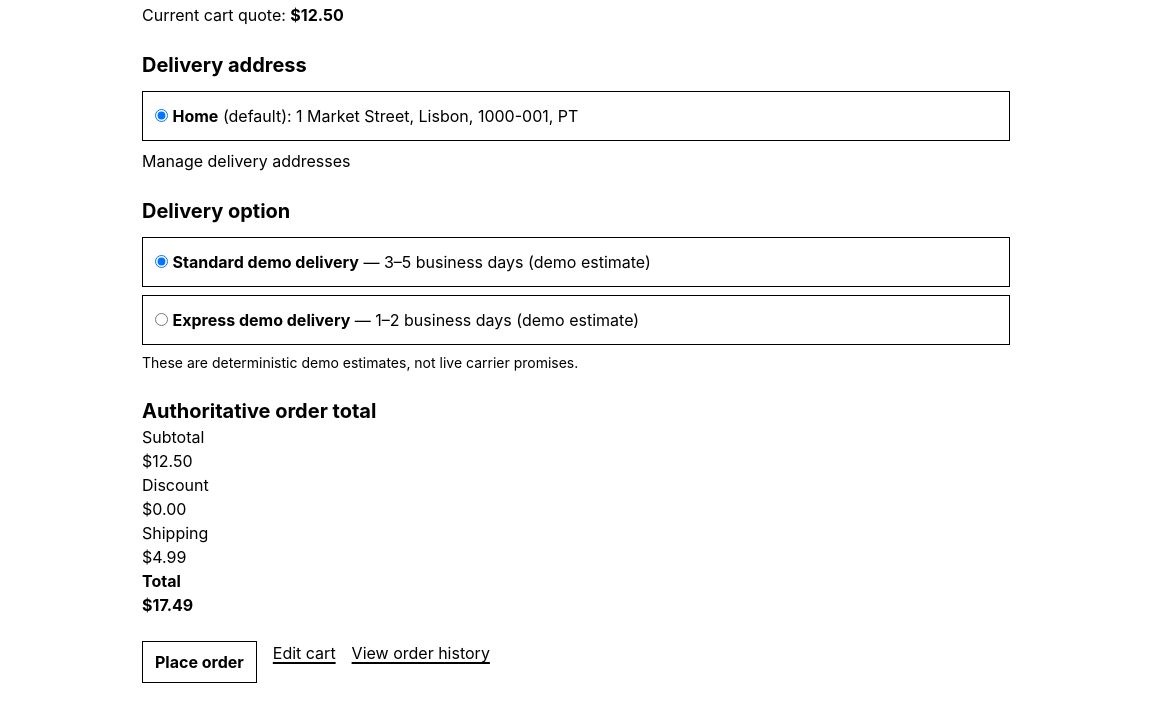
Test case: marketplace pages › places an order from the final checkout review
(page scrolled)
Expected: the text "Current cart quote: $12.50" is shown, [142,5,344,25]
Click the button "Place order": [199, 662] box [142,641,257,683]
(page scrolled)
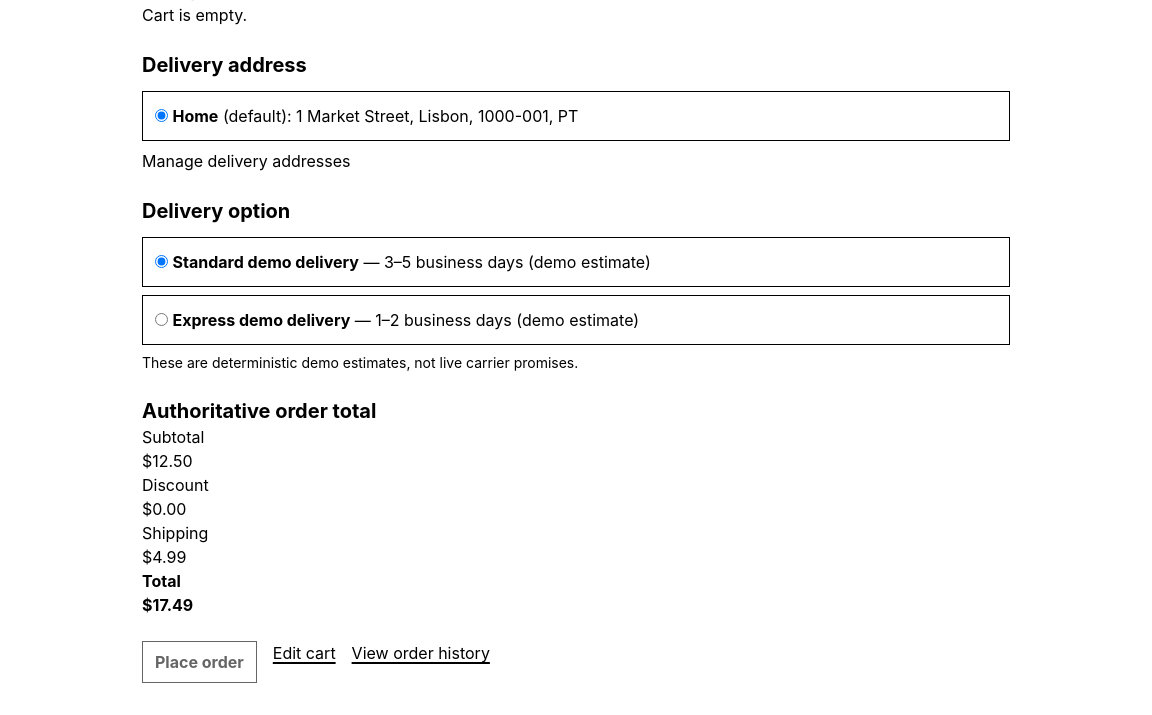
Result: the button "Place order" is disabled at [142,641,257,683]
Result: the text "Cart is empty." is shown at [142,5,247,25]
